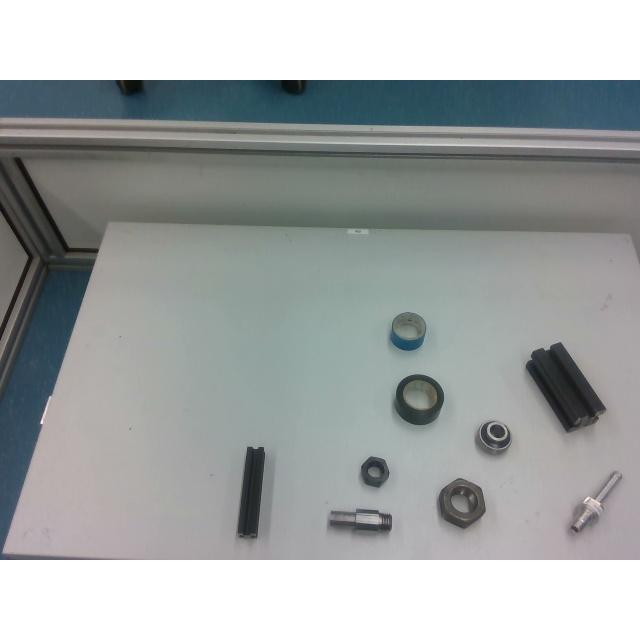Axis2: (328, 508, 392, 534)
Bearing2: (476, 419, 512, 456)
F20_20_B: (237, 446, 265, 536)
M20: (359, 456, 388, 486)
M30: (438, 478, 486, 526)
S40_40_B: (525, 341, 607, 433)
